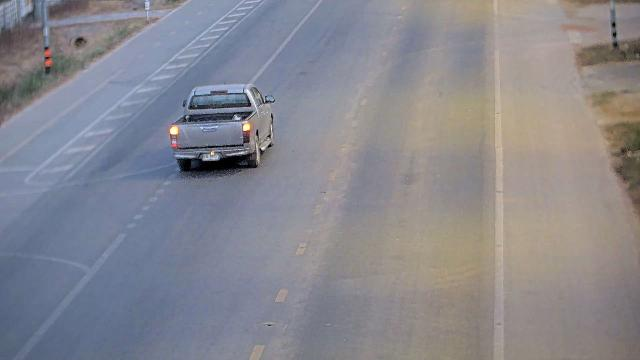pickup-truck: (168, 82, 275, 171)
